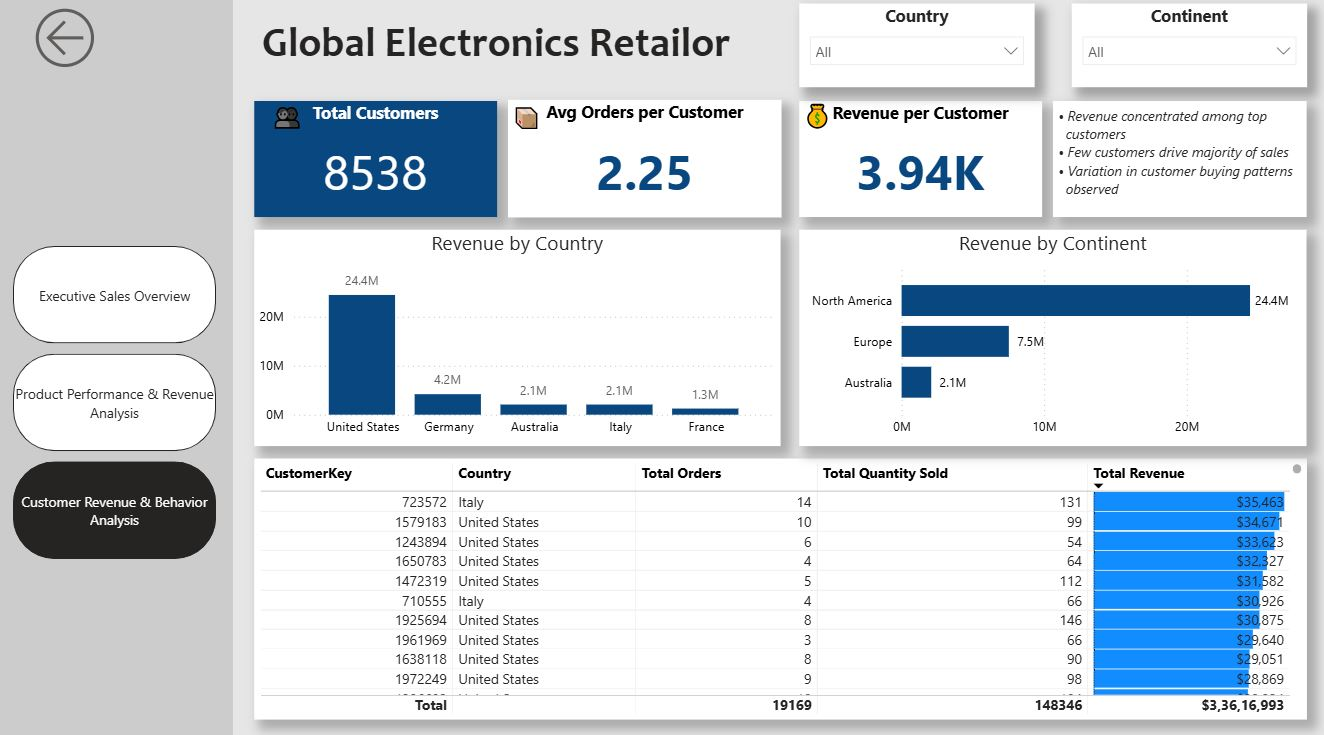

What the dashboard file says about the page in this screenshot:
{"tool":"powerbi","page":{"name":"Customer Revenue & Behavior Analysis","canvas":[1280,720],"ordinal":2},"visuals":[{"type":"shape","box":[0,0,226.8,720.2],"z":0},{"type":"card","title":"Total Customers","fields":{"Values":["Table.Total Customers"]},"box":[247.3,106.2,234,112.2],"z":1000},{"type":"card","title":"Avg Orders per Customer","fields":{"Values":["Table.Avg Orders per Customer"]},"box":[492.2,105,264.2,113.4],"z":2000},{"type":"card","title":"Revenue per Customer","fields":{"Values":["Table.Revenue per Customer"]},"box":[773.3,106.2,234,112.2],"z":3000},{"type":"textbox","box":[773.3,100.1,48.3,42.2],"z":4000},{"type":"textbox","box":[492.2,105,51.9,42.2],"z":5000},{"type":"textbox","box":[259.4,100.1,47.1,53.1],"z":6000},{"type":"columnChart","title":"Revenue by Country","fields":{"Category":["Customer Analysis.Country"],"Y":["Sum(Customer Analysis.Total_Revenue)"]},"box":[247.3,230.4,507.9,208.7],"z":7000},{"type":"tableEx","fields":{"Values":["Sales Masters.CustomerKey","Sales Masters.Country","Table.Total Orders","Table.Total Quantity Sold_","Table.Total Revenue"]},"box":[247.3,451.2,1015.8,252.1],"z":9000},{"type":"slicer","title":"Country","fields":{"Values":["Sales Masters.Country"]},"box":[773.3,12.1,226.8,80.8],"z":10000},{"type":"slicer","title":"Continent","fields":{"Values":["Sales Masters.Continent"]},"box":[1036.3,12.1,226.8,80.8],"z":11000},{"type":"textbox","title":"Global Electronics Retailor","box":[226.8,24.1,507.9,56.7],"z":12000},{"type":"textbox","box":[1018.2,106.2,244.9,112.2],"z":13000},{"type":"barChart","title":"Revenue by Continent","fields":{"Category":["Customer Analysis.Continent"],"Y":["Sum(Customer Analysis.Total_Revenue)"]},"box":[773.3,230.4,489.8,208.7],"z":13001},{"type":"pageNavigator","box":[14.5,246.1,196.6,302.8],"z":13002},{"type":"actionButton","box":[29,9.7,100.1,71.2],"z":13003}]}

Visuals, with their boxes in screenshot pixels (x1, y1, x2, y2), scaled from the page's 1280x720 canvas onto the 1324x735 screenshot:
shape: left=0, top=0, right=235, bottom=734
"Total Customers" card: left=256, top=108, right=498, bottom=223
"Avg Orders per Customer" card: left=509, top=107, right=782, bottom=223
"Revenue per Customer" card: left=800, top=108, right=1042, bottom=223
textbox: left=800, top=102, right=850, bottom=145
textbox: left=509, top=107, right=563, bottom=150
textbox: left=268, top=102, right=317, bottom=156
"Revenue by Country" columnChart: left=256, top=235, right=781, bottom=448
tableEx - Sales Masters.CustomerKey x Sales Masters.Country: left=256, top=461, right=1307, bottom=718
"Country" slicer: left=800, top=12, right=1034, bottom=95
"Continent" slicer: left=1072, top=12, right=1307, bottom=95
"Global Electronics Retailor" textbox: left=235, top=25, right=760, bottom=82
textbox: left=1053, top=108, right=1307, bottom=223
"Revenue by Continent" barChart: left=800, top=235, right=1307, bottom=448
pageNavigator: left=15, top=251, right=218, bottom=560
actionButton: left=30, top=10, right=134, bottom=83
